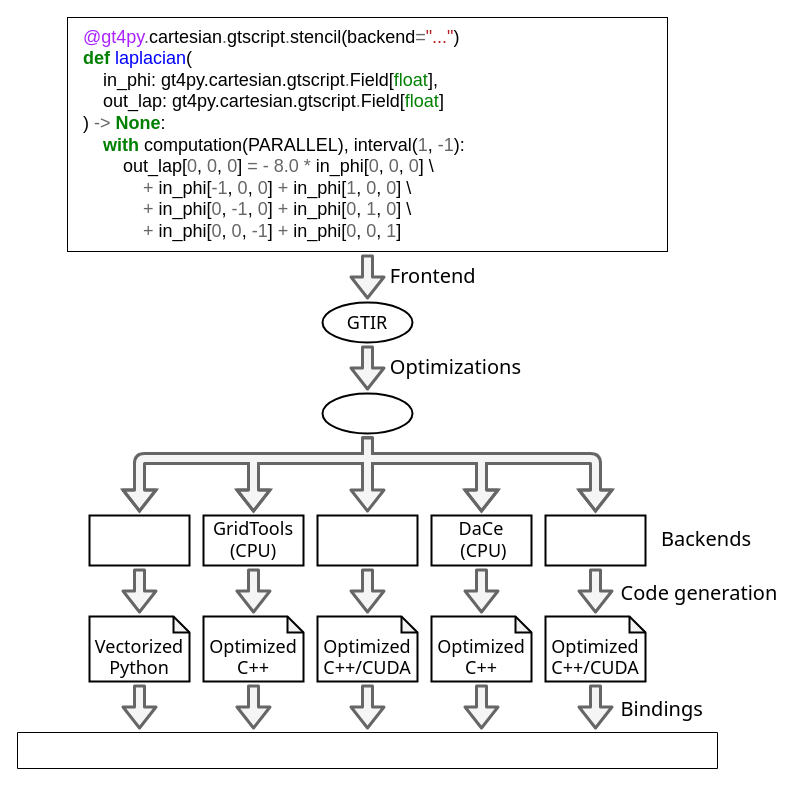
The diagram is 795 pixels wide and 786 high, and some of its shapes have lost their labels. Each missing label, with the centre of its shape:
"DaCe (GPU)" goes at point (595, 540).
"GridTools (GPU)" goes at point (367, 540).
"IIR" goes at point (367, 413).
"laplacian(phi , lap , origin = ( 1 , 1 , 0 ) , domain = (nx - 2 , ny - 2 , nz) )" goes at point (367, 750).
"NumPy" goes at point (139, 540).
